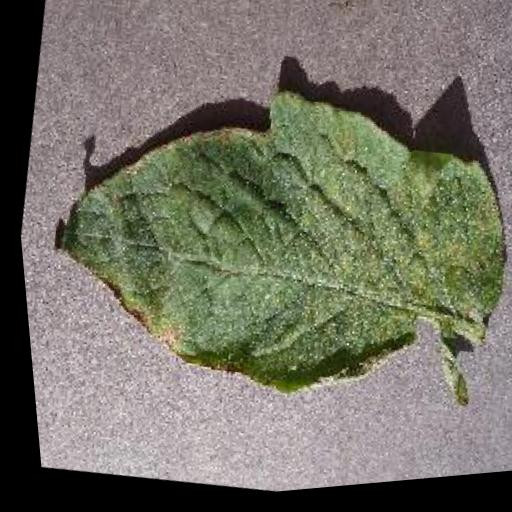Spider Mites: (12, 43, 512, 452)
